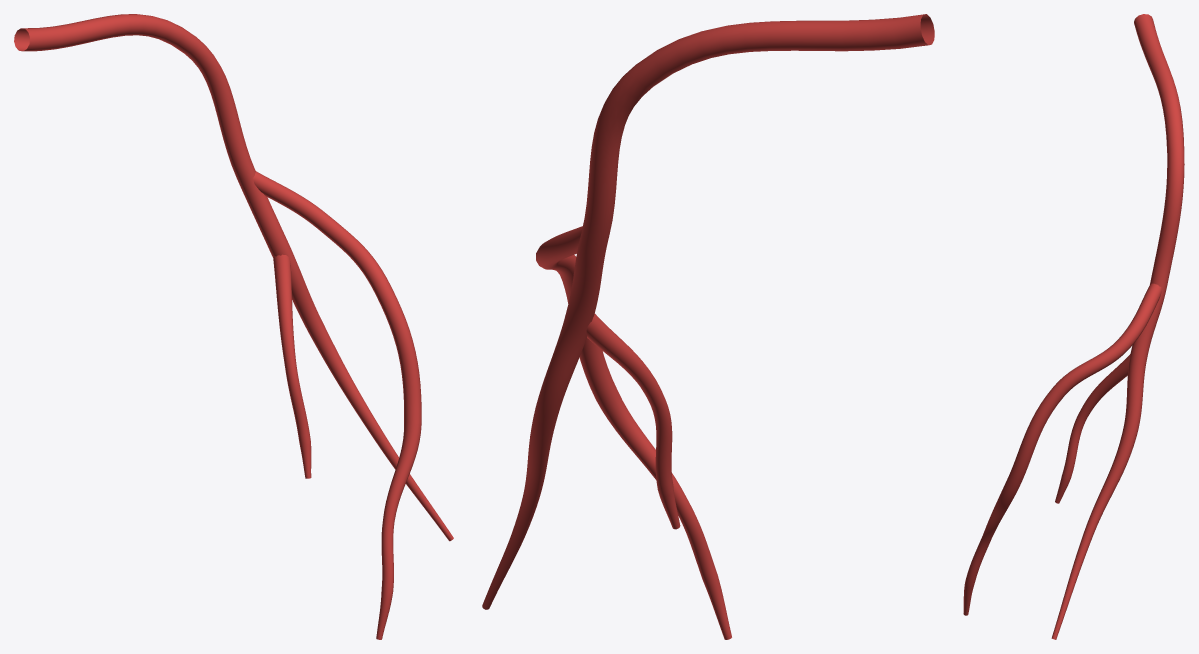
The picture shows the model from 3 angles, left to right: view 1: azimuth 30°, elevation 25°; view 2: azimuth 150°, elevation 25°; view 3: azimuth 270°, elevation 25°; orthographic projection. The views are drawn at different scales.
Parts seen in each view (by area): view 1: 左侧睫状后长动脉; view 2: 左侧睫状后长动脉; view 3: 左侧睫状后长动脉.
Boxes of the visible parts, x1=… form: 左侧睫状后长动脉: x1=14, y1=14, x2=453, y2=639; 左侧睫状后长动脉: x1=482, y1=14, x2=934, y2=639; 左侧睫状后长动脉: x1=963, y1=14, x2=1184, y2=639.
Bounding box in the file's own units: 0.0221 × 0.0329 × 0.0132.
